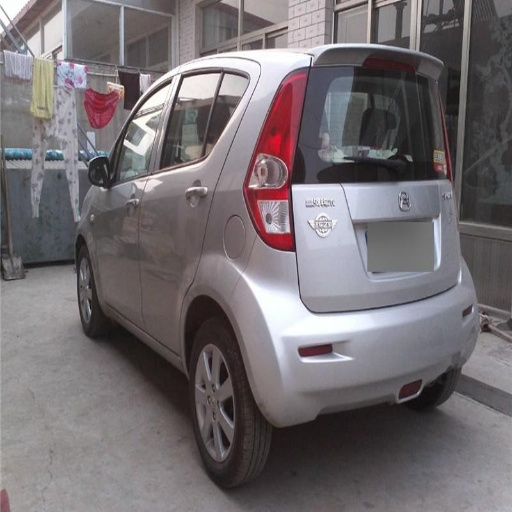back_bumper: (230, 243, 477, 422)
back_glass: (309, 68, 439, 177)
back_left_door: (141, 69, 243, 335)
tailgate: (292, 152, 443, 300)
trunk: (302, 258, 457, 312), (353, 170, 450, 235)
